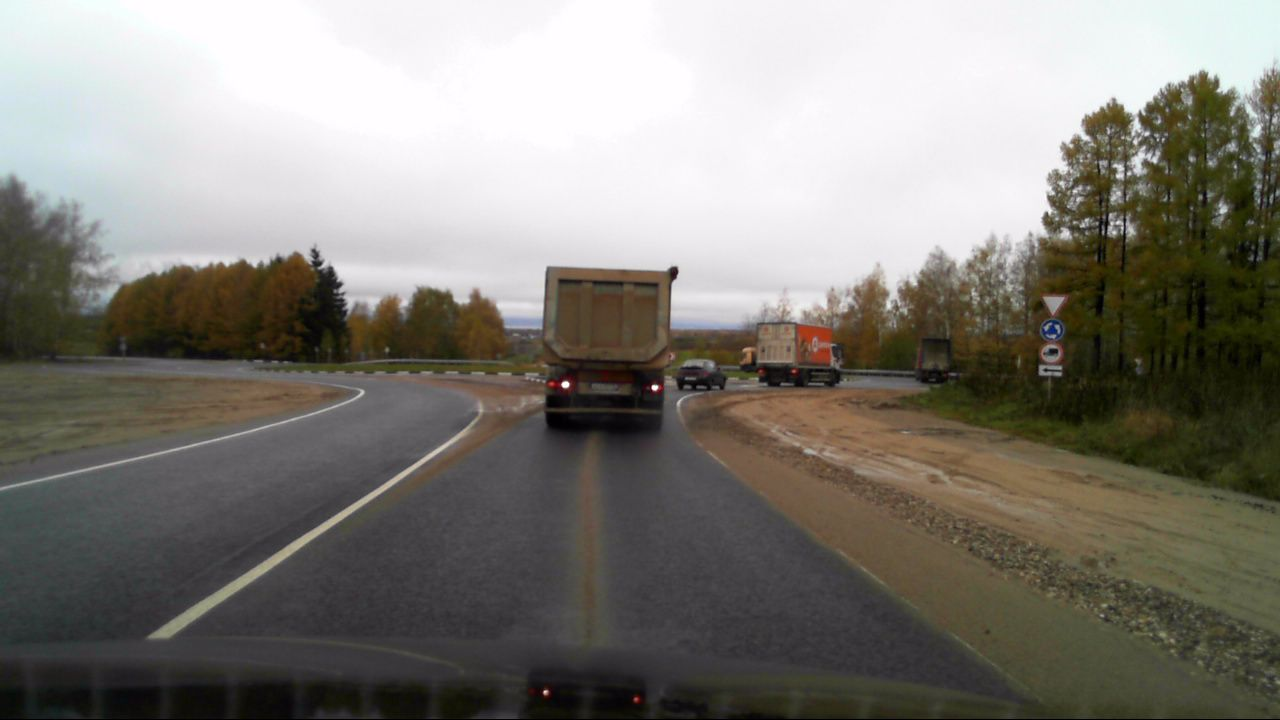Round-About: (1040, 319, 1063, 339)
